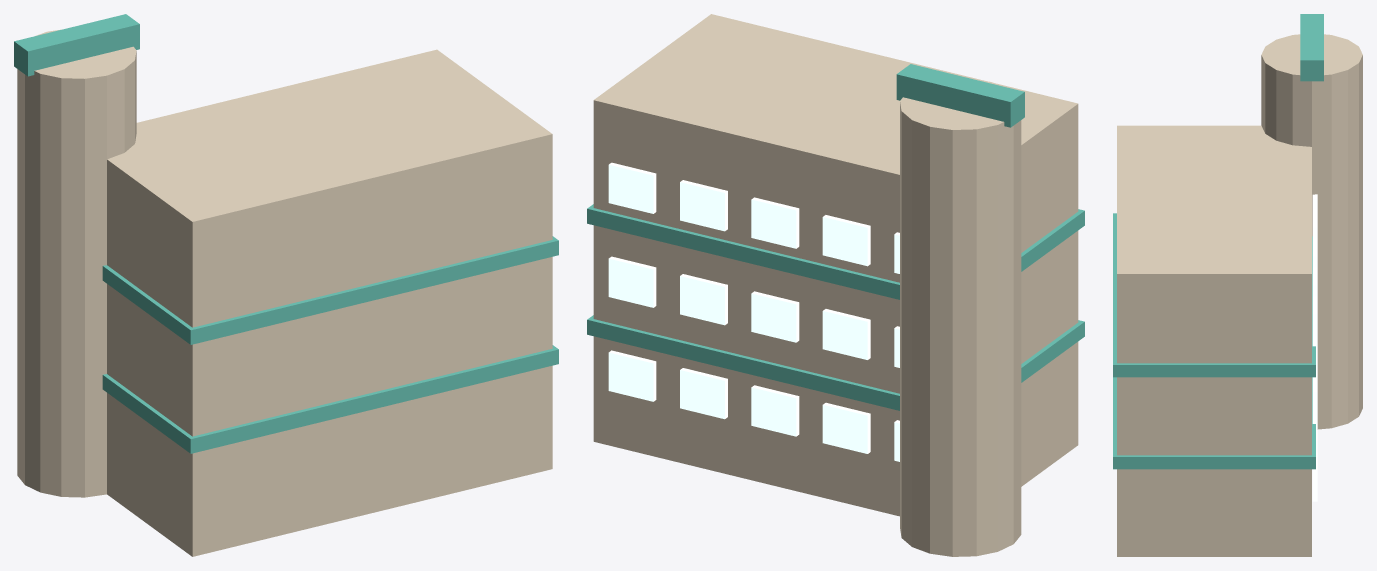
Rendered from artdeco.glb.
3 views of the same model, side by side, from view 1: azimuth 30°, elevation 25°; view 2: azimuth 150°, elevation 25°; view 3: azimuth 270°, elevation 25° (orthographic). The views are drawn at different scales.
Parts seen in each view (by area): view 1: mia_main, mia_fin, mia_band2, mia_band1, mia_finTop; view 2: mia_main, mia_fin, mia_band1, mia_band2, mia_finTop, mia_w04, mia_w12, mia_w14, mia_w21, mia_w22, mia_w24, mia_w01 (+5 smaller); view 3: mia_main, mia_fin, mia_band2, mia_band1, mia_finTop.
Part boxes in pixels (box(x1,y1,x2,y2)): mia_main: box(107, 49, 552, 556); mia_fin: box(17, 29, 136, 497); mia_band2: box(102, 236, 558, 344); mia_band1: box(102, 345, 558, 453); mia_finTop: box(14, 14, 139, 76); mia_main: box(593, 14, 1078, 516); mia_fin: box(900, 80, 1021, 556); mia_band1: box(587, 315, 1084, 410); mia_band2: box(587, 204, 1084, 299); mia_finTop: box(896, 64, 1024, 127); mia_w04: box(608, 350, 656, 401); mia_w12: box(751, 291, 799, 342); mia_w14: box(608, 256, 656, 307); mia_w21: box(822, 215, 870, 266); mia_w22: box(751, 197, 799, 248); mia_w24: box(608, 162, 656, 213); mia_w01: box(822, 402, 870, 453); mia_main: box(1117, 125, 1311, 556); mia_fin: box(1261, 34, 1362, 429); mia_band2: box(1113, 213, 1315, 377); mia_band1: box(1113, 377, 1315, 469); mia_finTop: box(1300, 14, 1323, 81).
Bounding box in the file's own units: 21 × 21 × 12.8.
